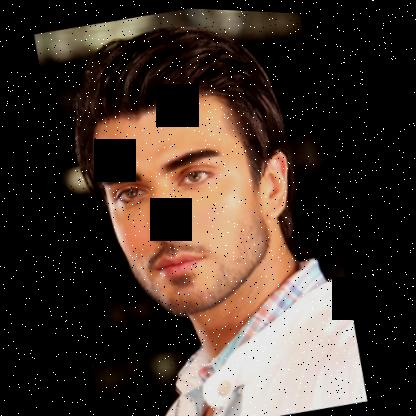Male: (85, 76, 318, 329)
